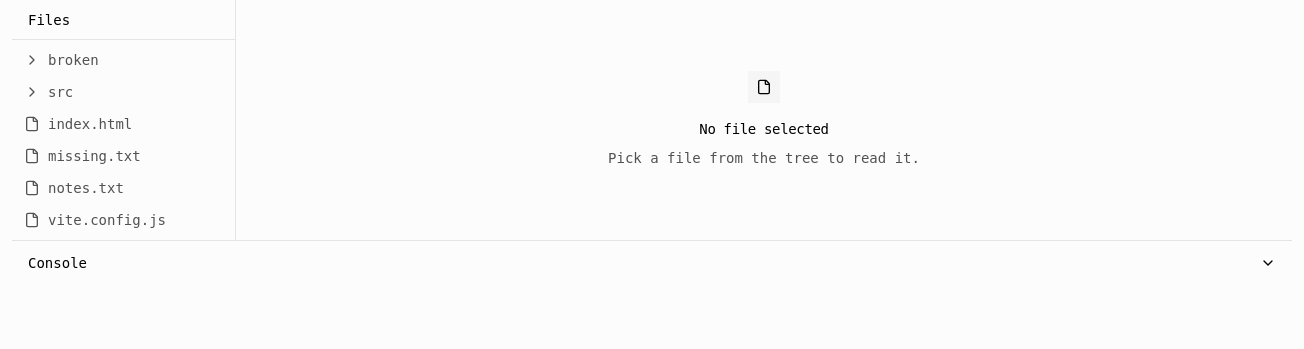
shows the selected file with a breadcrumb, line numbers, and themed tokens
Step 1. Click the button "src" → (118,92), box [12,76,225,108]
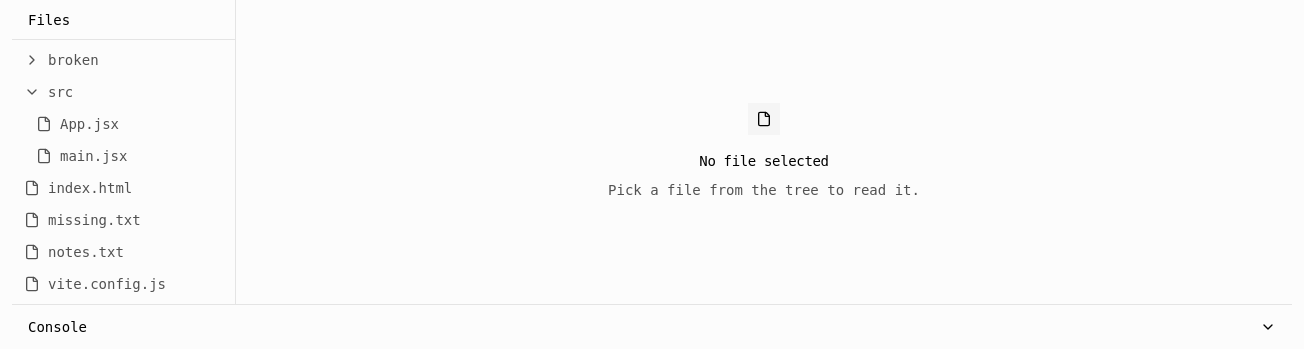
Step 2. Click the button "main.jsx" → (118,156), box [12,140,225,172]
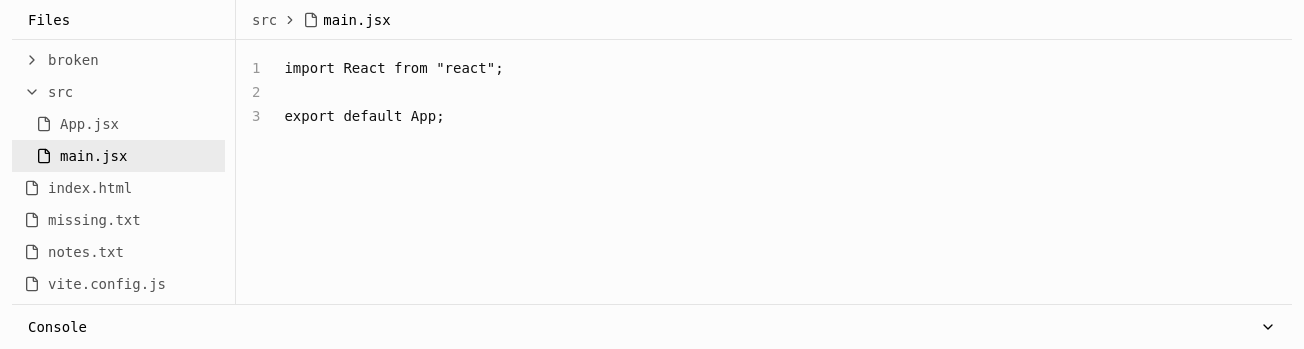
expect the button "main.jsx" is shown: met, box [12,140,225,172]
expect the navigation bar named "breadcrumb" reads "src main.jsx": met, box [252,12,391,28]
